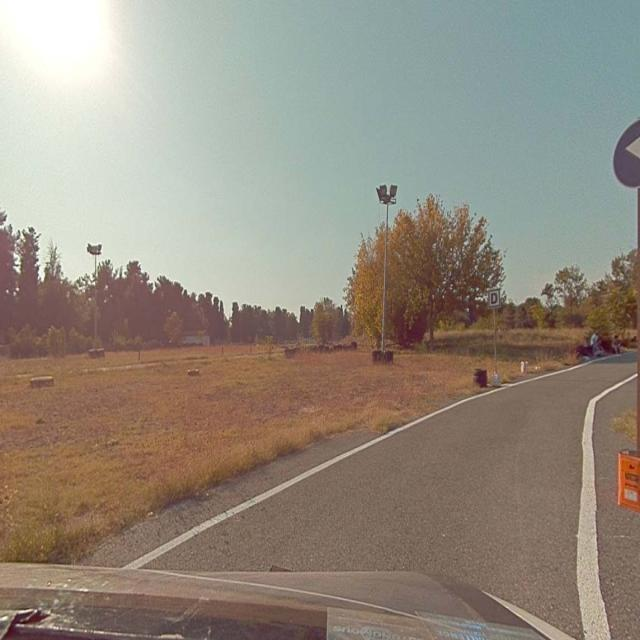durak: (489, 290, 499, 306)
